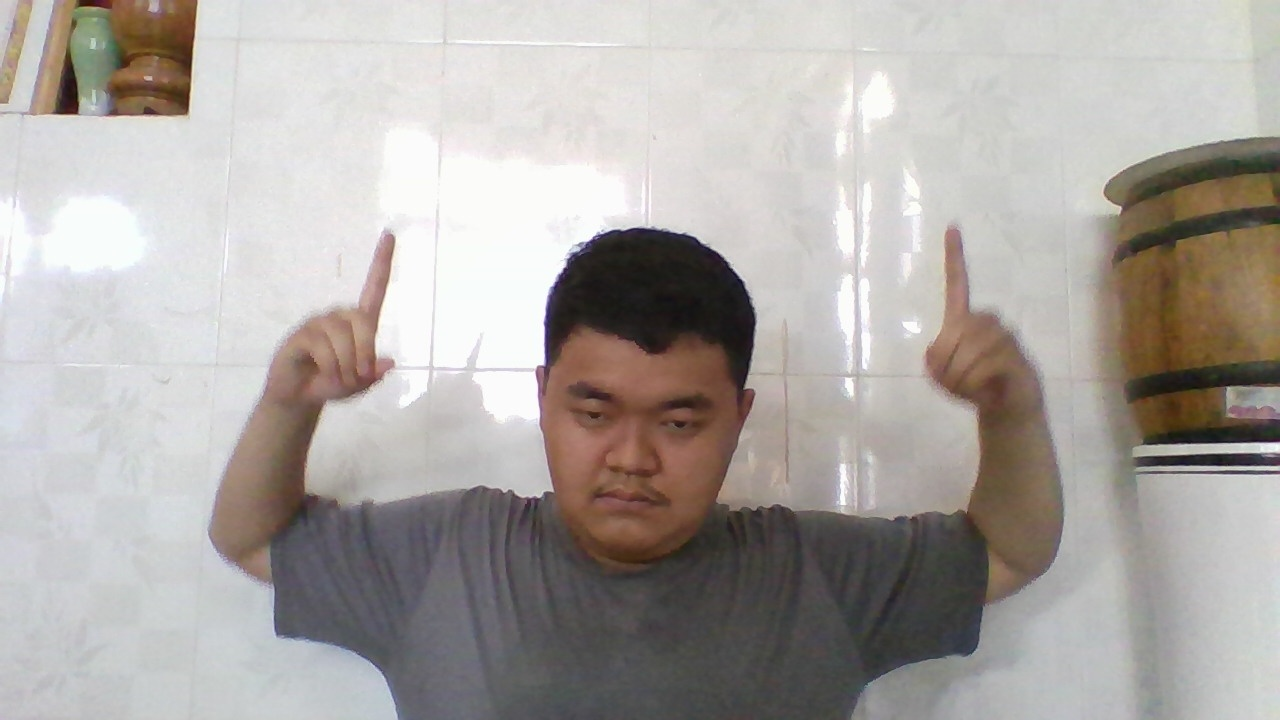D: (281, 221, 403, 417), (918, 215, 1030, 427)
